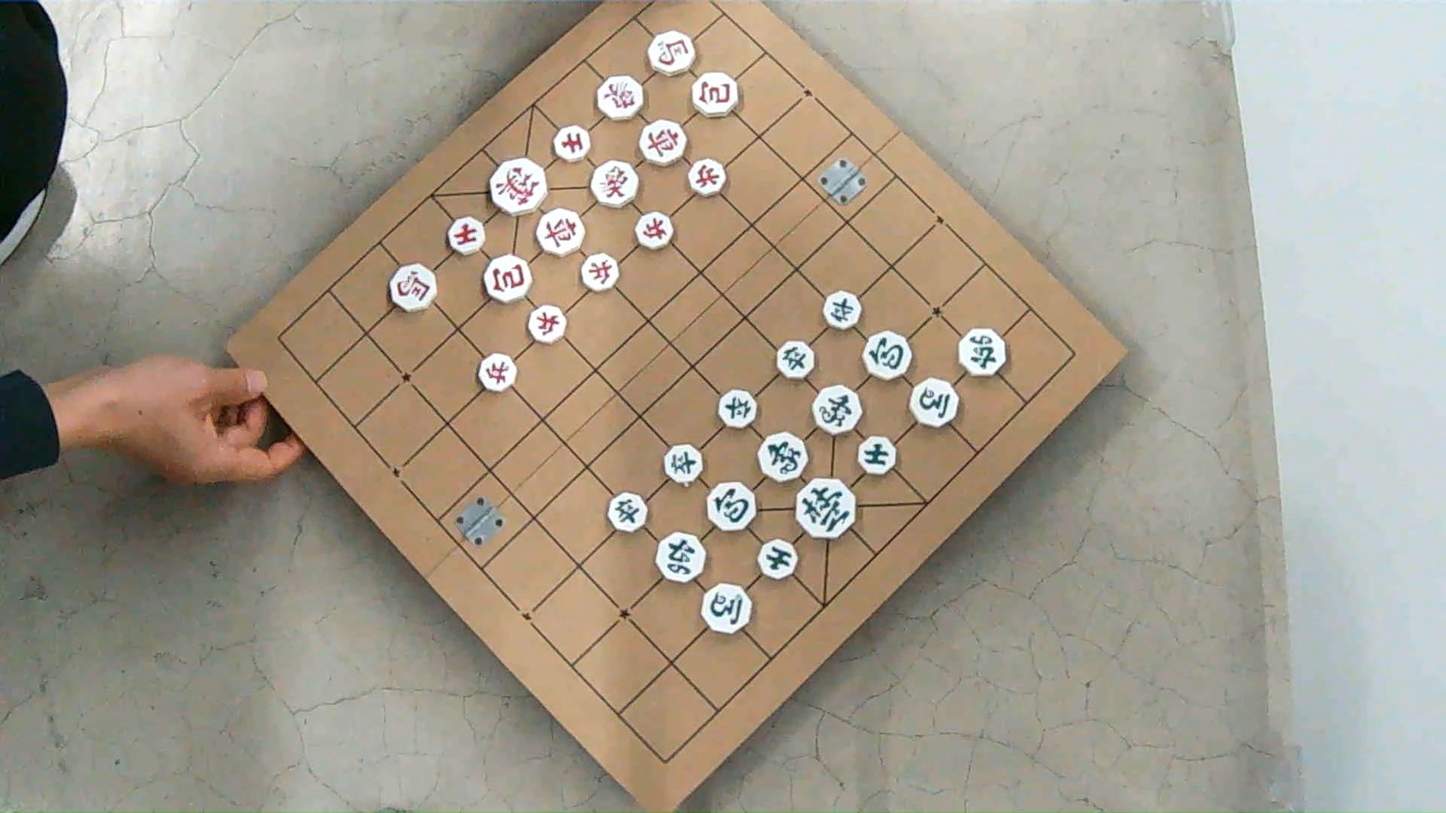cha_green: (655, 532, 706, 583), (958, 328, 1005, 376)
cha_red: (535, 209, 584, 256), (640, 120, 687, 166)
jol_green: (823, 291, 862, 330), (664, 445, 703, 484), (608, 492, 646, 532), (718, 390, 757, 428), (776, 341, 814, 379)
jol_red: (528, 305, 566, 343), (478, 354, 516, 391), (581, 253, 618, 291), (688, 158, 726, 195), (636, 212, 673, 249)
ma_green: (700, 583, 752, 634), (911, 378, 958, 427)
ma_red: (390, 264, 435, 312), (648, 30, 695, 75)
po_green: (706, 481, 755, 531), (864, 330, 911, 380)
po_red: (484, 255, 530, 303), (691, 72, 737, 117)
sa_green: (758, 539, 796, 579), (859, 436, 896, 475)
sa_red: (447, 217, 484, 254), (554, 125, 590, 161)
sang_green: (758, 432, 807, 483), (813, 385, 862, 434)
sang_red: (591, 160, 639, 208), (596, 75, 643, 119)
wang_green: (796, 478, 856, 539)
wang_red: (490, 158, 546, 215)
